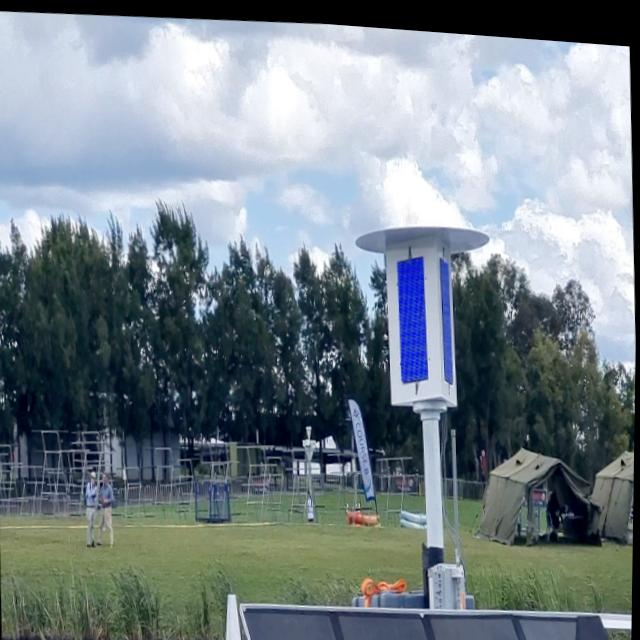led: (386, 235, 442, 388)
